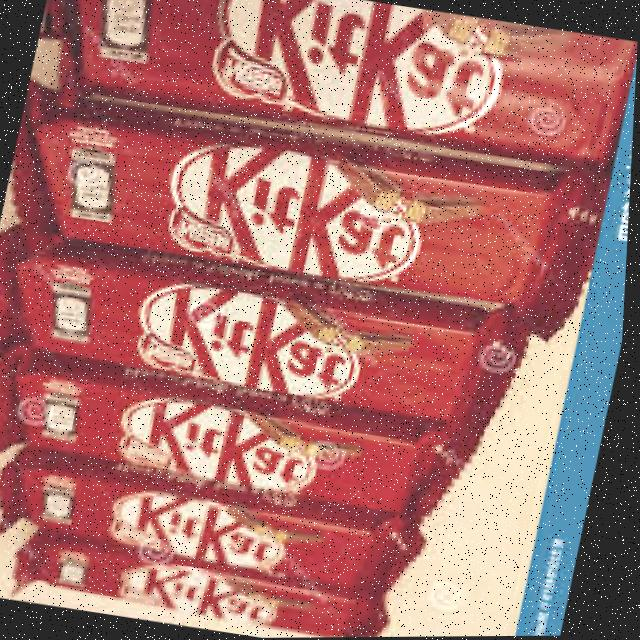kitkat: (0, 80, 628, 333), (0, 235, 545, 451), (58, 0, 640, 189), (0, 348, 498, 532), (2, 451, 439, 607), (8, 531, 411, 640)
